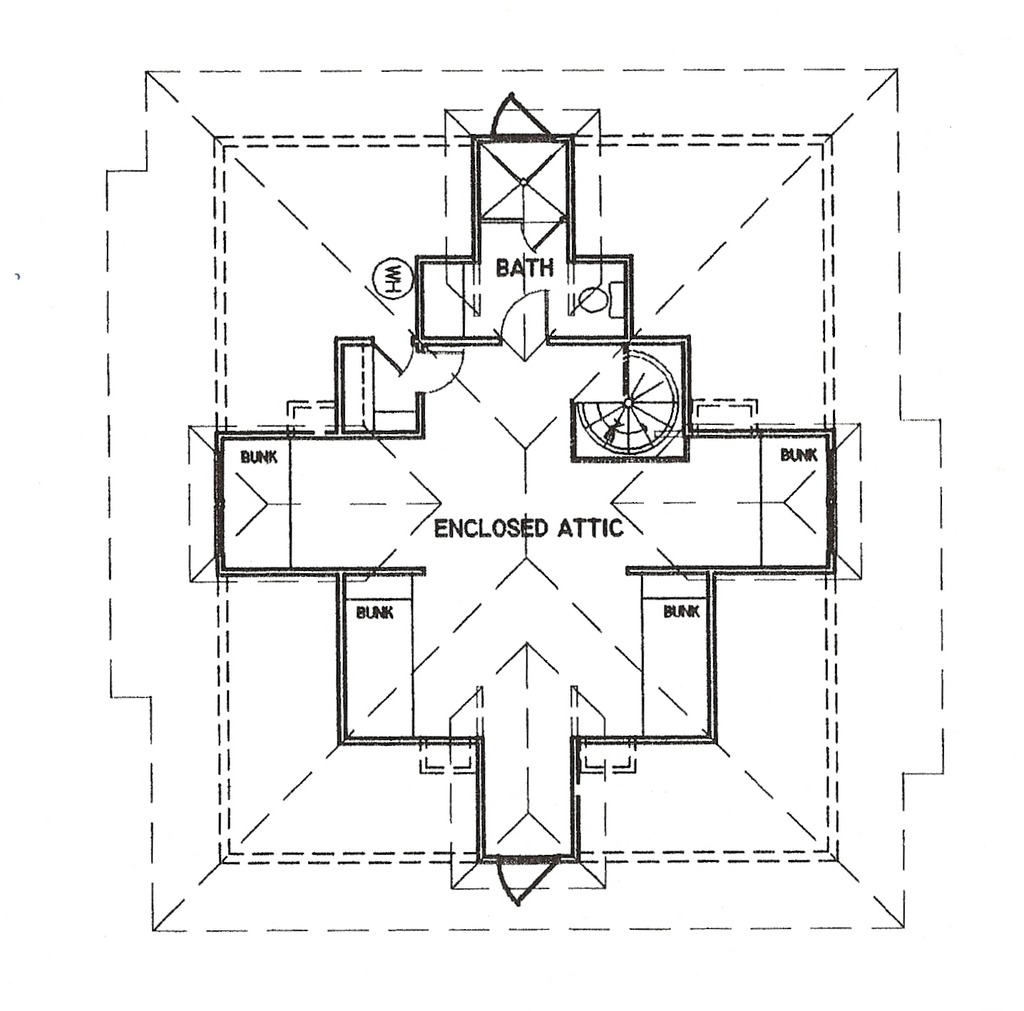door: (488, 90, 550, 141), (497, 290, 554, 339), (494, 857, 555, 901), (419, 349, 468, 392), (368, 334, 420, 373)
large_sink: (578, 282, 628, 318)
stairs: (577, 344, 680, 461)
